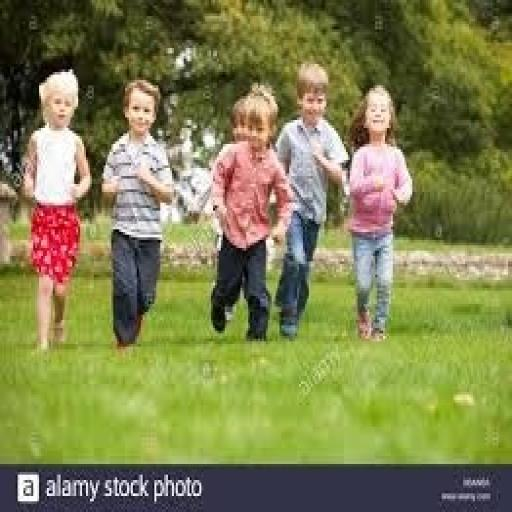running: (207, 83, 295, 344), (98, 75, 180, 352), (272, 59, 352, 341), (18, 66, 94, 354), (344, 83, 416, 344)
